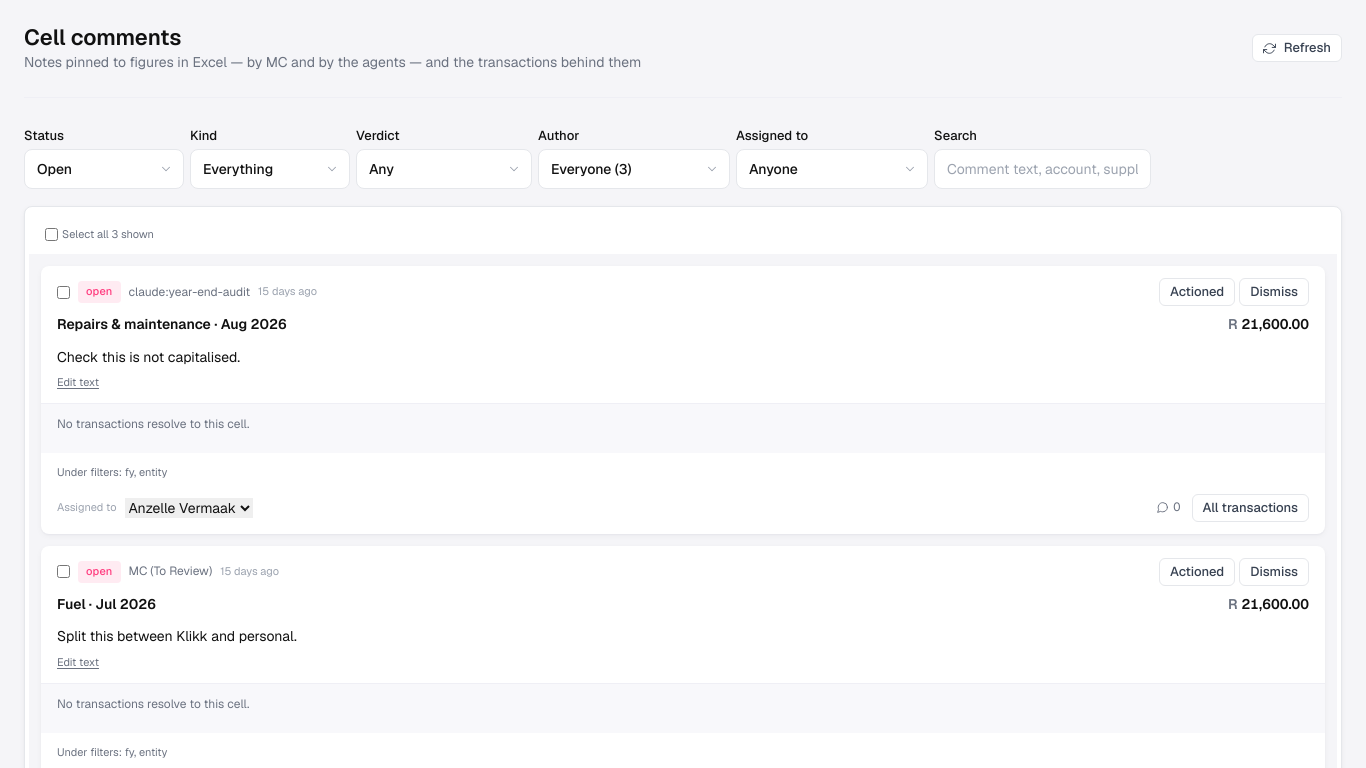
Scenario: AuditComments — opening the inline editor › Cancel restores the original and writes nothing
Click the button "Edit text" below "Check this is not capitalised.": (78, 383) [57, 375, 99, 391]
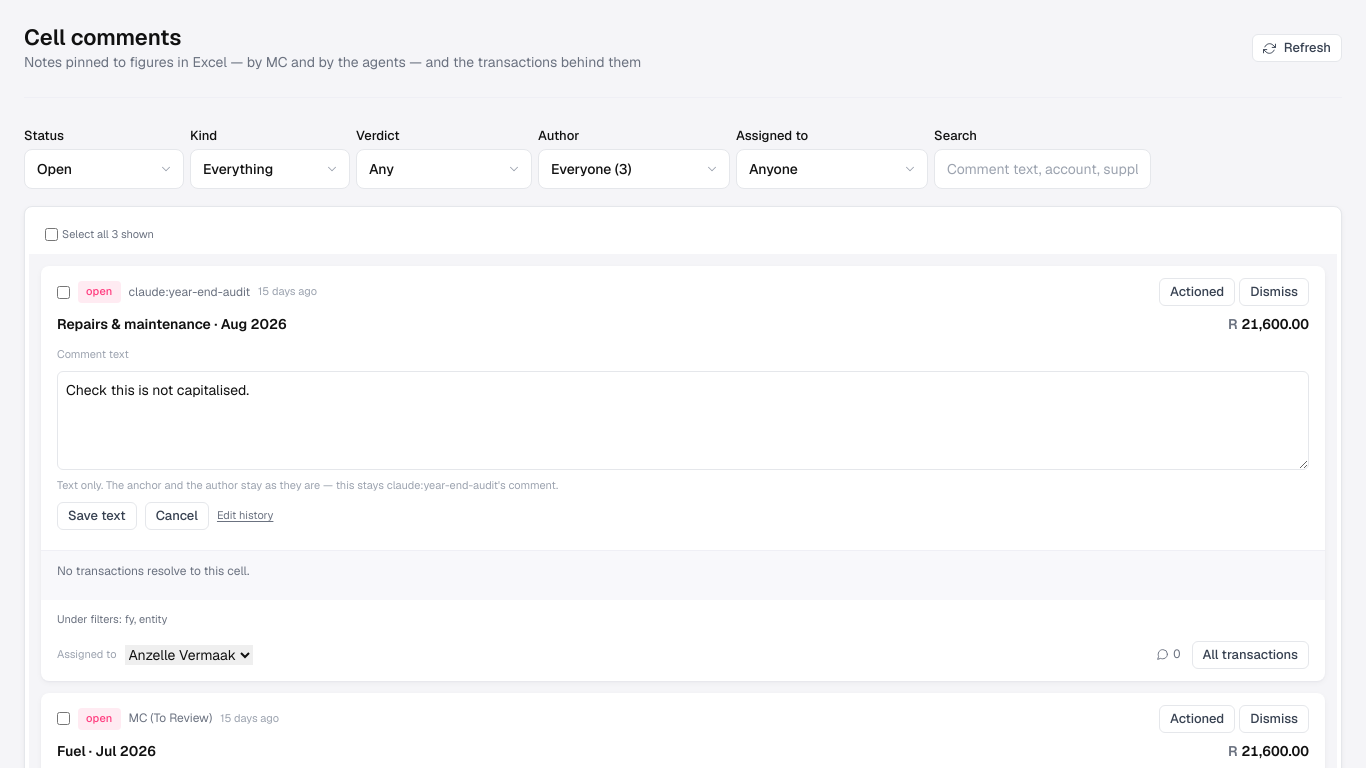
Replace the text in the text box labelled "Comment text" with "discard me": (683, 420) [57, 371, 1309, 470]
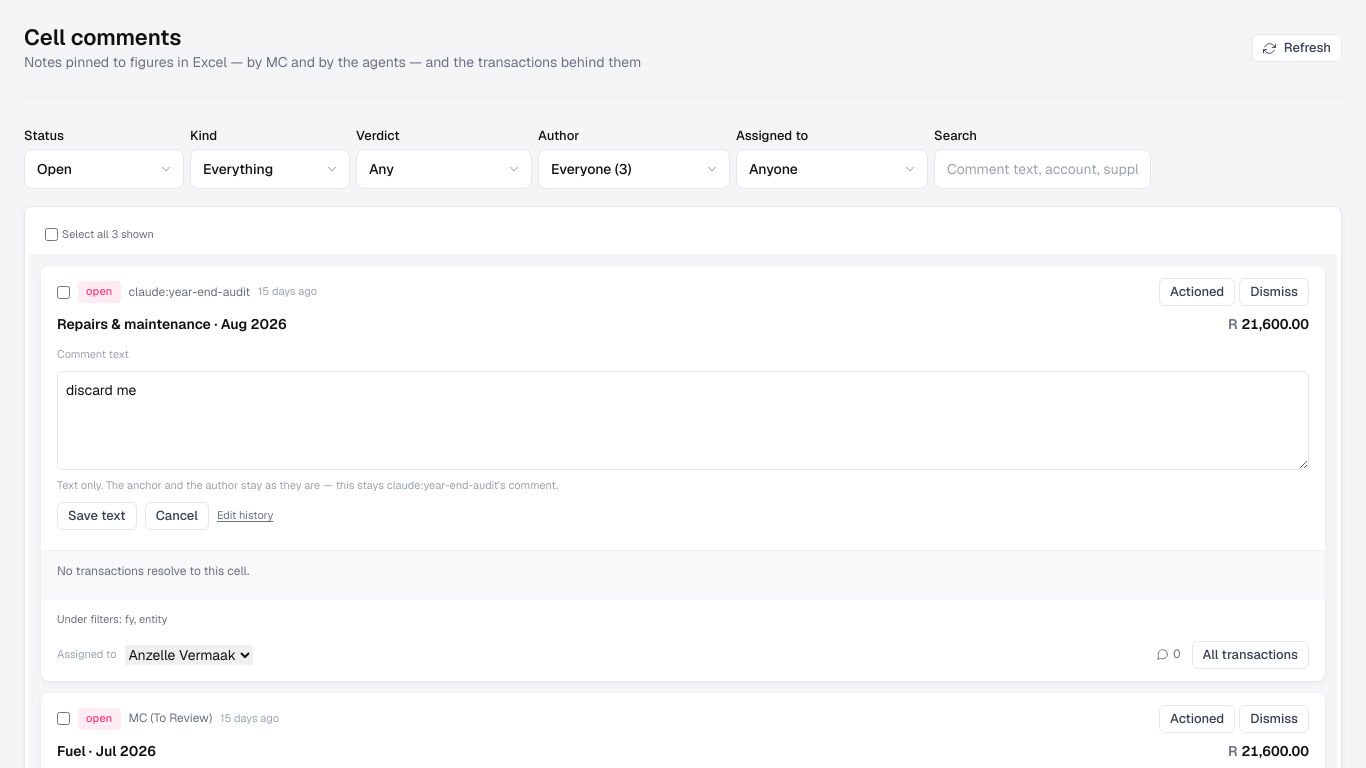
Click the button "Cancel": (177, 516) [145, 502, 209, 530]
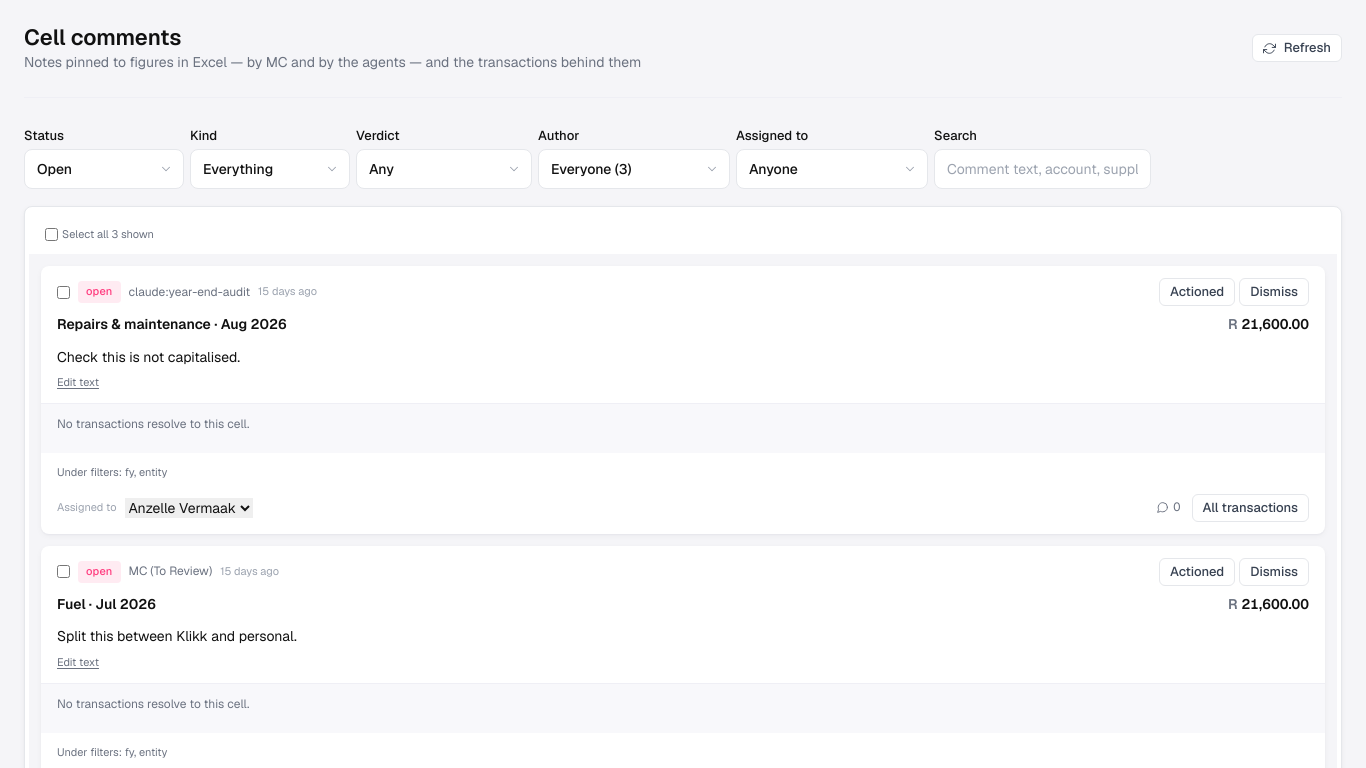
Expected: the text "discard me" is not shown
Expected: the text with test id "cc-text-41" reads "Check this is not capitalised.", [57, 348, 240, 366]
